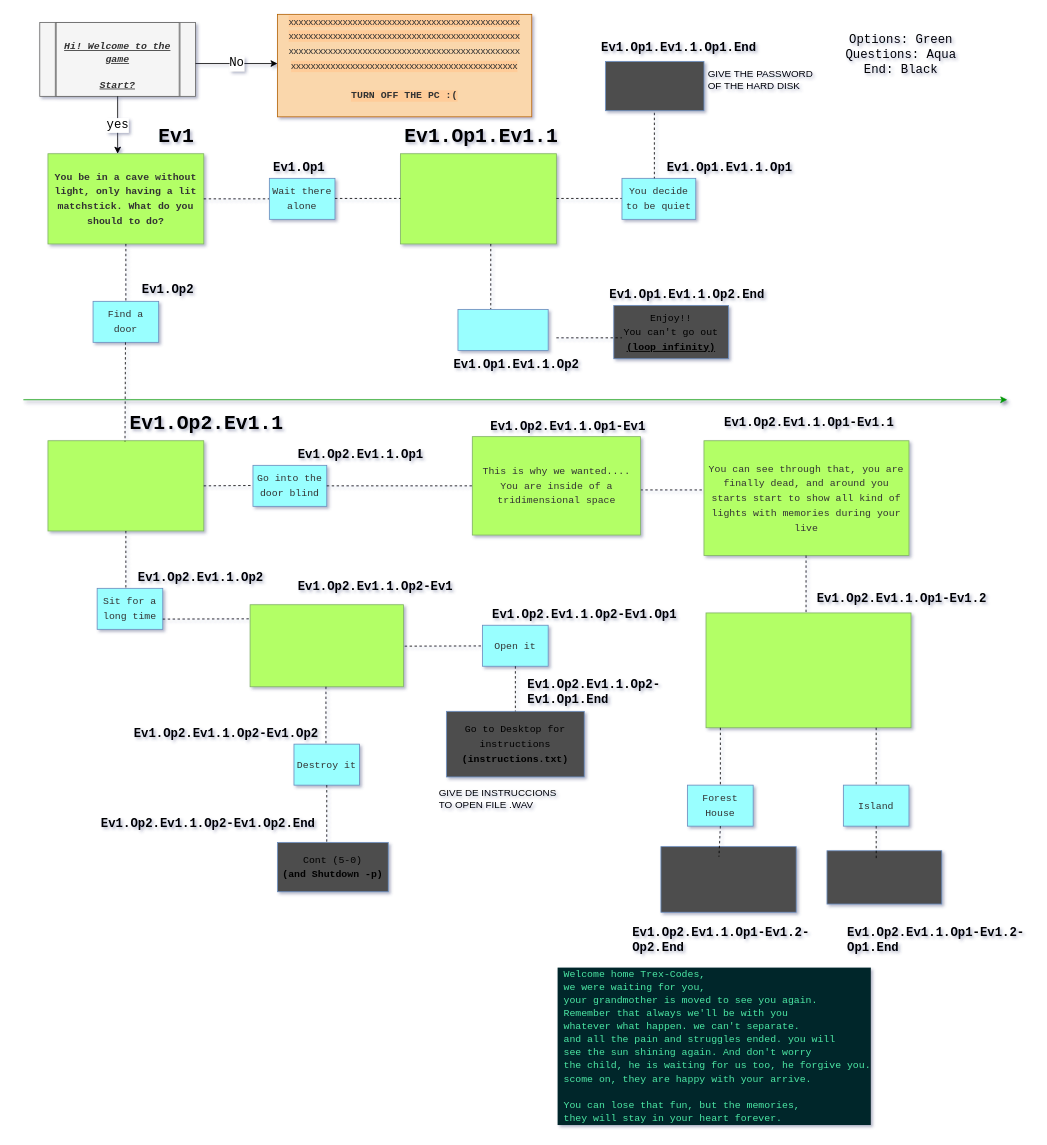
Some shapes in this 1047 by 1145 pixel diagram are drawn without their labels. Here are the shapes that lost their labels. From the top down, the centre of each, then its label:
At point (654, 86): "HI MR ROBOT!!! (Unlock with password)".
At point (478, 198): "You find a child to your side starts remember to yourself when you was child".
At point (502, 330): "you put out the matchstick".
At point (125, 485): "You find the door hidden almost with don't see nothing".
At point (326, 645): "instantly , you take out a letter inside of your jacket without name".
At point (808, 670): "Which place do you want to start your new life?".
At point (728, 879): "Welcome to the Forest House!! (ASCII Forest House)".
At point (884, 877): "Welcome to the island!! (ASCII Island)".
